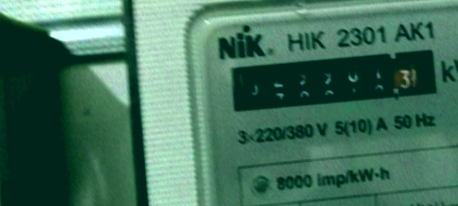0: (343, 58, 359, 85), (243, 74, 260, 96)
1: (368, 57, 383, 81)
2: (267, 69, 285, 89)
3: (395, 66, 410, 89)
9: (318, 63, 334, 86), (293, 65, 307, 88)
screen: (215, 38, 447, 122)
